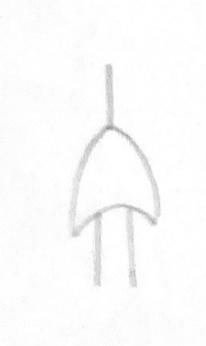OR: (57, 111, 171, 237)
